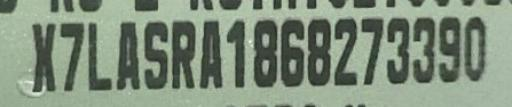letter: (83, 17, 115, 96), (196, 16, 226, 95), (140, 16, 170, 95), (278, 15, 308, 92), (112, 17, 142, 94), (57, 17, 85, 98), (27, 19, 57, 94), (304, 14, 332, 93), (384, 14, 412, 91), (250, 15, 278, 92), (222, 14, 248, 95), (332, 13, 360, 88), (357, 15, 385, 90), (170, 17, 196, 96), (436, 12, 462, 89), (462, 11, 488, 86), (410, 12, 436, 87)
